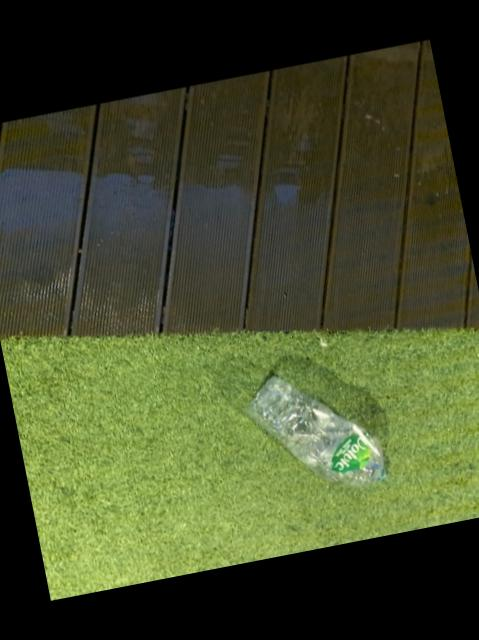plastic: (248, 375, 385, 484)
